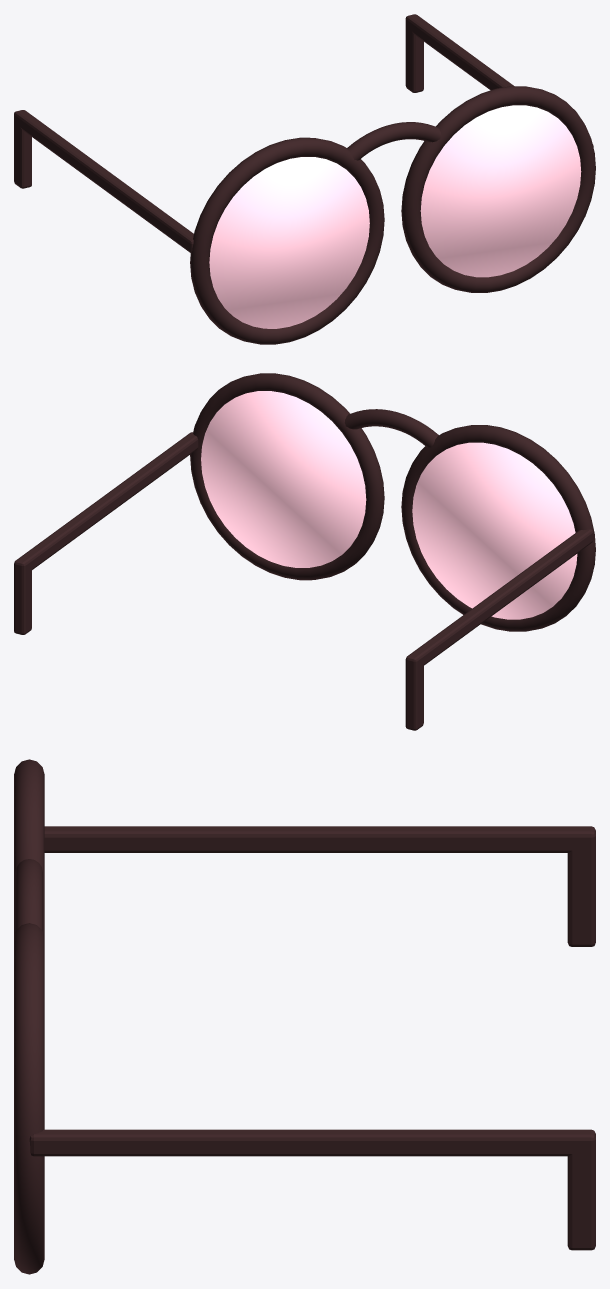
The model's file is roundglasses.glb.
3 views of the same model, one above another, from view 1: azimuth 30°, elevation 25°; view 2: azimuth 150°, elevation 25°; view 3: azimuth 270°, elevation 25° (orthographic). The views are drawn at different scales.
Parts seen in each view (by area): view 1: LensR, LensL, RimL, RimR, ArmL.001, ArmR.001, Bridge, ArmRHook.001, ArmLHook.001; view 2: LensR, LensL, RimR, RimL, ArmL.001, ArmR.001, Bridge, ArmLHook.001, ArmRHook.001; view 3: ArmR.001, ArmL.001, RimR, RimL, ArmRHook.001, ArmLHook.001, Bridge.
Part boxes in pixels (x1,y1,x2,y2): LensR: [420, 105, 581, 277]; LensL: [209, 157, 369, 328]; RimL: [190, 137, 384, 344]; RimR: [401, 86, 595, 292]; ArmL.001: [14, 110, 193, 253]; ArmR.001: [405, 14, 593, 147]; Bridge: [347, 122, 441, 160]; ArmRHook.001: [405, 25, 423, 92]; ArmLHook.001: [14, 120, 31, 188]; LensR: [201, 391, 366, 567]; LensL: [412, 442, 577, 619]; RimR: [190, 373, 384, 580]; RimL: [401, 425, 595, 631]; ArmL.001: [405, 529, 593, 669]; ArmR.001: [14, 432, 198, 573]; Bridge: [344, 409, 438, 447]; ArmLHook.001: [405, 662, 423, 730]; ArmRHook.001: [14, 568, 31, 634]; ArmR.001: [29, 1129, 595, 1156]; ArmL.001: [44, 826, 595, 852]; RimR: [14, 923, 44, 1274]; RimL: [14, 759, 44, 937]; ArmRHook.001: [567, 1149, 595, 1250]; ArmLHook.001: [567, 846, 595, 946]; Bridge: [15, 859, 42, 931].
Bounding box in the file's own units: 0.313 × 0.149 × 0.2465.
